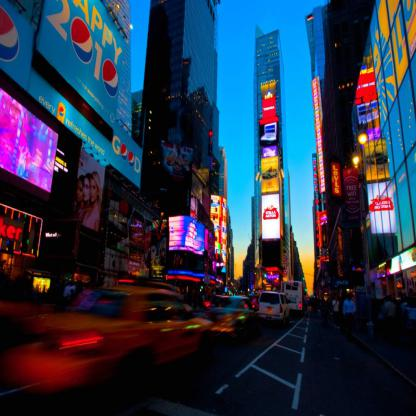Car: (49, 277, 211, 390), (206, 294, 256, 336), (259, 290, 290, 324), (243, 293, 253, 317)
